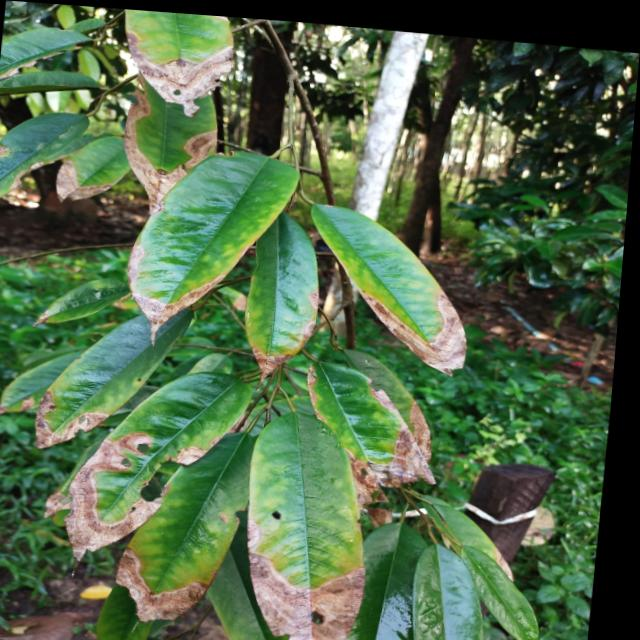Leaf Blight: (59, 430, 183, 560), (255, 540, 386, 640), (350, 382, 459, 488), (380, 287, 495, 364), (121, 119, 224, 204), (129, 33, 232, 111), (126, 552, 220, 622), (33, 395, 105, 446), (131, 285, 205, 332), (49, 157, 119, 204), (236, 337, 315, 375)
